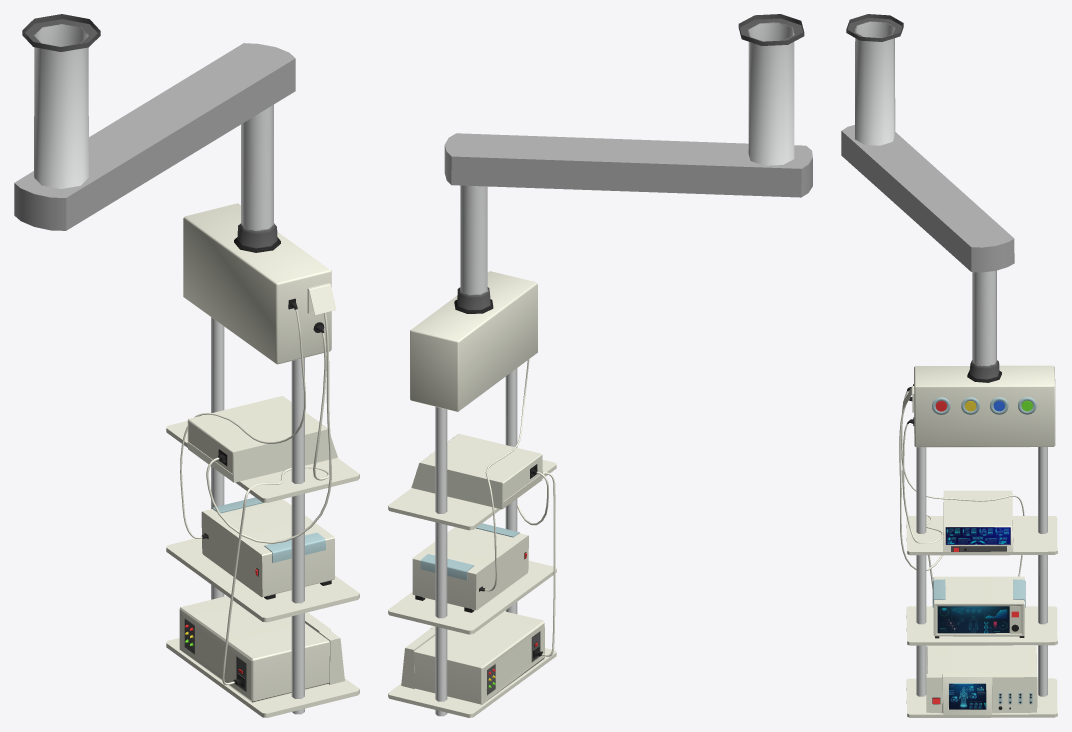
Rendered from Modutec_Power_Maquet.fbx.
3 views of the same model, side by side, from view 1: azimuth 30°, elevation 25°; view 2: azimuth 150°, elevation 25°; view 3: azimuth 270°, elevation 25° (orthographic). The views are drawn at different scales.
Visible parts, largest first — view 1: Modutec_Power_Maquet; view 2: Modutec_Power_Maquet; view 3: Modutec_Power_Maquet.
Part boxes in pixels (x1,y1,x2,y2): Modutec_Power_Maquet: [14, 14, 359, 717]; Modutec_Power_Maquet: [388, 14, 812, 717]; Modutec_Power_Maquet: [841, 14, 1057, 717].
Size of the model in its own units: 88.86 by 179 by 60.19.
